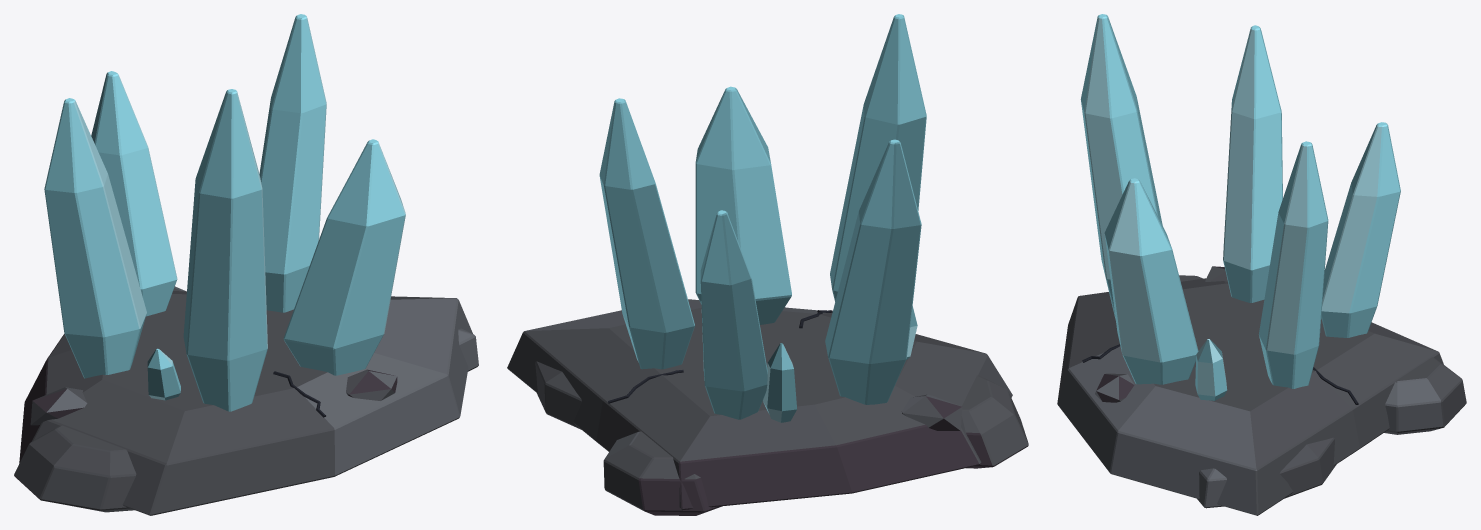
The model's file is BH_ORE_O08_Quartzo_Espectral_V02.glb.
The picture shows the model from 3 angles, left to right: view 1: azimuth 30°, elevation 25°; view 2: azimuth 150°, elevation 25°; view 3: azimuth 270°, elevation 25°; orthographic projection. The views are drawn at different scales.
Parts seen in each view (by area): view 1: Bedrock | primary.003, O08 | shard 3.003, O08 | shard 2.003, O08 | shard 4.003, O08 | shard 5.003, O08 | shard 1.003, Bedrock | shoulder 1.003, O08 | V02 embedded stone ledge.002, O08 | V02 secondary crystal 0.001, O08 | V02 embedded stone ledge.003, Bedrock | shoulder 2.003; view 2: Bedrock | primary.003, O08 | shard 2.003, O08 | shard 5.003, O08 | shard 4.003, O08 | shard 1.003, O08 | shard 3.003, Bedrock | shoulder 3.003, Bedrock | shoulder 1.003, O08 | V02 secondary crystal 2.001, Bedrock | shoulder 2.003, O08 | V02 embedded stone ledge.002; view 3: Bedrock | primary.003, O08 | shard 4.003, O08 | shard 2.003, O08 | shard 5.003, O08 | shard 1.003, O08 | shard 3.003, Bedrock | shoulder 3.003, Bedrock | shoulder 2.003, O08 | V02 secondary crystal 1.001, O08 | V02 embedded stone ledge.003.
Part boxes in pixels (x1,y1,x2,y2): Bedrock | primary.003: (19,291,472,515); O08 | shard 3.003: (183,89,267,411); O08 | shard 2.003: (44,98,146,378); O08 | shard 4.003: (283,139,405,375); O08 | shard 5.003: (259,14,326,312); O08 | shard 1.003: (91,71,177,316); Bedrock | shoulder 1.003: (14,425,136,512); O08 | V02 embedded stone ledge.002: (30,387,87,425); O08 | V02 secondary crystal 0.001: (147,348,180,400); O08 | V02 embedded stone ledge.003: (346,369,397,400); Bedrock | shoulder 2.003: (458,328,478,371); Bedrock | primary.003: (507,299,1012,509); O08 | shard 2.003: (825,139,921,404); O08 | shard 5.003: (599,98,694,369); O08 | shard 4.003: (695,86,791,324); O08 | shard 1.003: (700,210,767,419); O08 | shard 3.003: (830,14,926,301); Bedrock | shoulder 3.003: (603,431,721,515); Bedrock | shoulder 1.003: (961,375,1028,468); O08 | V02 secondary crystal 2.001: (763,343,797,422); Bedrock | shoulder 2.003: (535,361,581,429); O08 | V02 embedded stone ledge.002: (901,394,962,430); Bedrock | primary.003: (1057,278,1443,515); O08 | shard 4.003: (1104,178,1198,384); O08 | shard 2.003: (1223,25,1282,302); O08 | shard 5.003: (1259,141,1328,388); O08 | shard 1.003: (1321,122,1400,337); O08 | shard 3.003: (1080,14,1162,318); Bedrock | shoulder 3.003: (1384,357,1466,434); Bedrock | shoulder 2.003: (1197,437,1336,508); O08 | V02 secondary crystal 1.001: (1195,339,1227,400); O08 | V02 embedded stone ledge.003: (1095,373,1134,402).
Size of the model in its own units: 3.06 by 2.42 by 2.42.
